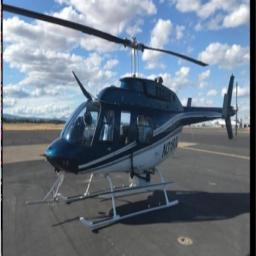helicopter: (7, 3, 243, 236)
